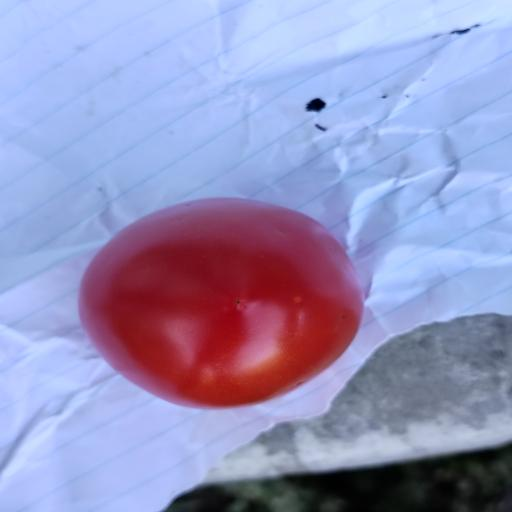ripe: (79, 199, 363, 407)
